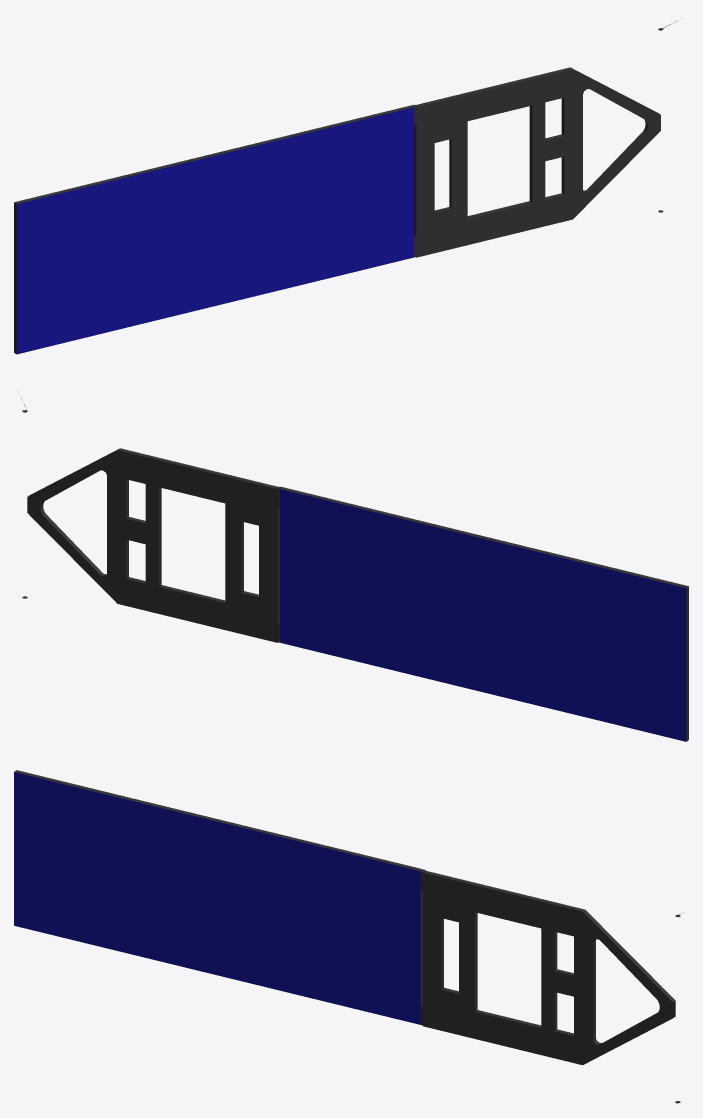
Rendered from Satelite_Panel_Izquierdo.obj.
The picture shows the model from 3 angles, top to bottom: view 1: azimuth 30°, elevation 25°; view 2: azimuth 150°, elevation 25°; view 3: azimuth 330°, elevation 25°; orthographic projection. The views are drawn at different scales.
Visible parts, largest first — view 1: Satelite_Panel_Izquierdo; view 2: Satelite_Panel_Izquierdo; view 3: Satelite_Panel_Izquierdo.
Part boxes in pixels (x1,y1,x2,y2): Satelite_Panel_Izquierdo: (14,18,681,354); Satelite_Panel_Izquierdo: (18,391,688,741); Satelite_Panel_Izquierdo: (14,770,682,1103).
Size of the model in its own units: 18.55 by 5.3 by 0.4823.
